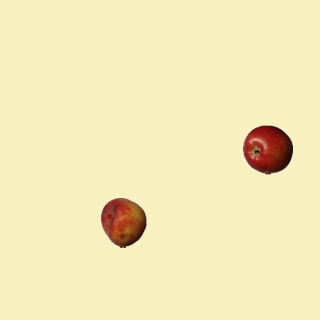Apple Braeburn: (242, 124, 292, 174)
Peach: (98, 197, 148, 247)
